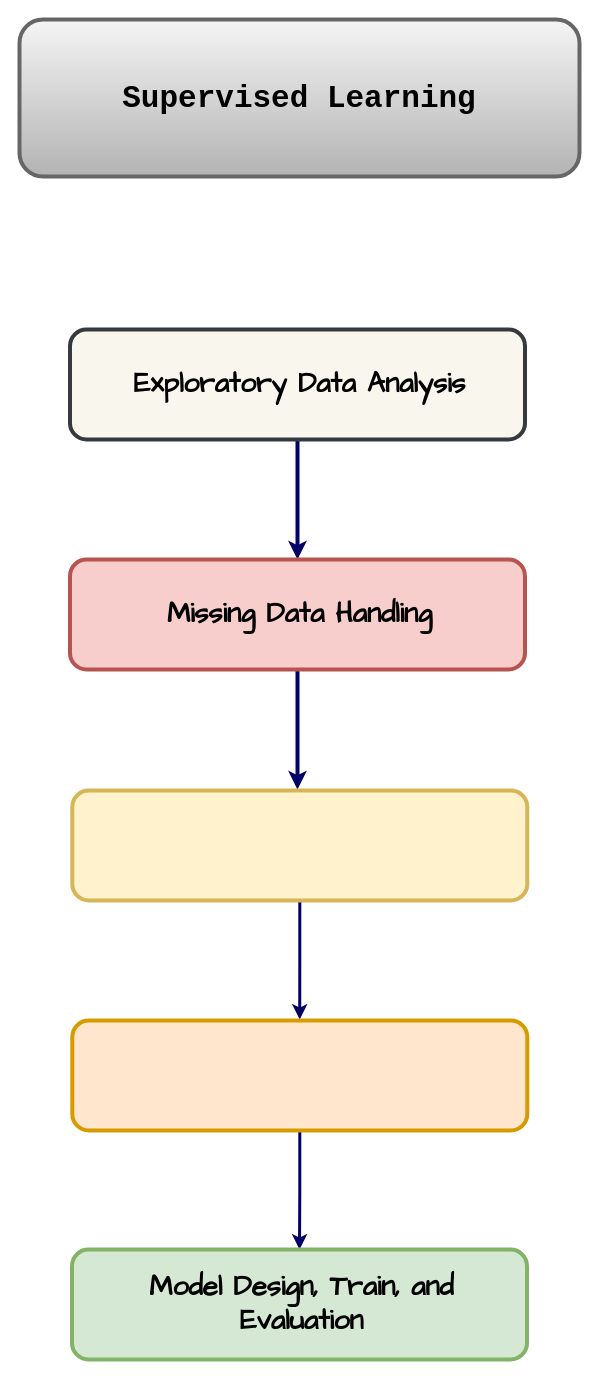
Image size: 598x1378. Some labels were removed from this diagram. Each missing label, with the centre of its shape:
"Dataset Splitting & Feature Scaling" belongs at point (299, 1075).
"Feature Engineering" belongs at point (299, 845).
